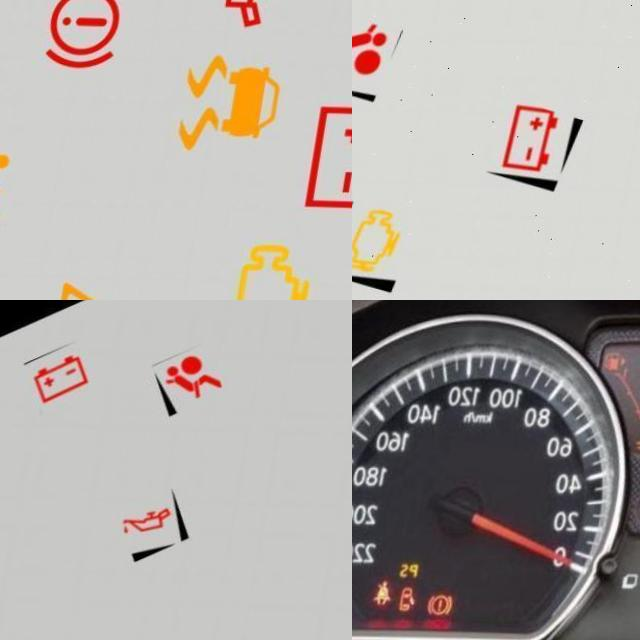Seat Belt: (391, 580, 410, 605)
